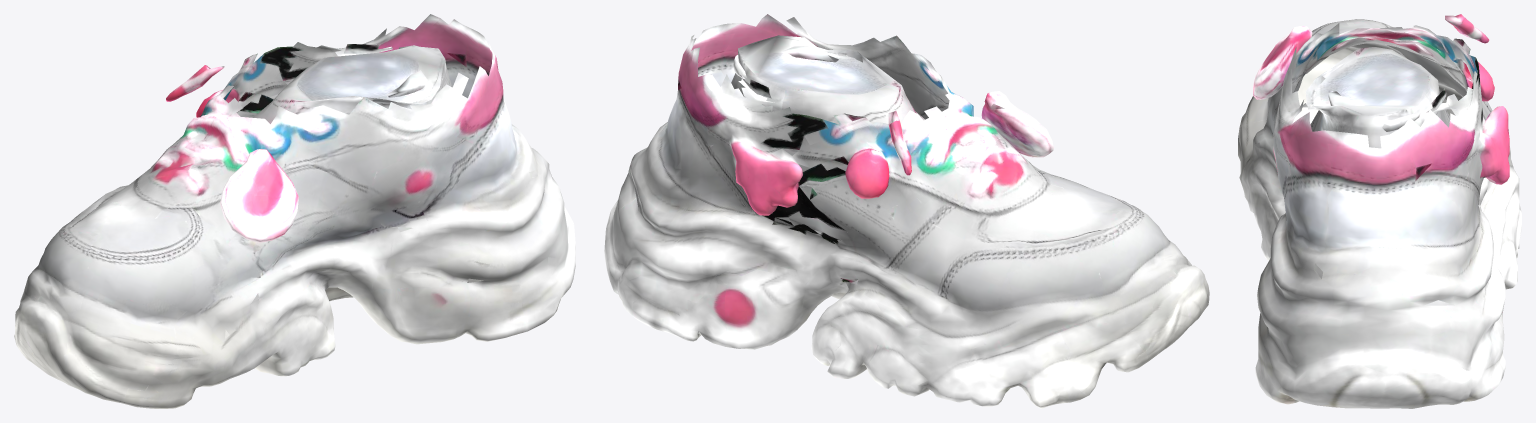
File: form-01-v5.glb
3 views of the same model, side by side, from view 1: azimuth 30°, elevation 25°; view 2: azimuth 150°, elevation 25°; view 3: azimuth 270°, elevation 25° (orthographic). The views are drawn at different scales.
Visible parts, largest first — view 1: GEO-V5-Shoe; view 2: GEO-V5-Shoe; view 3: GEO-V5-Shoe.
Part boxes in pixels (box(x1,y1,x2,y2)): GEO-V5-Shoe: box(14, 14, 575, 408); GEO-V5-Shoe: box(604, 14, 1209, 408); GEO-V5-Shoe: box(1238, 14, 1521, 408).
Size of the model in its own units: 0.3 by 0.138 by 0.1294.
1 material, 1 textured.
